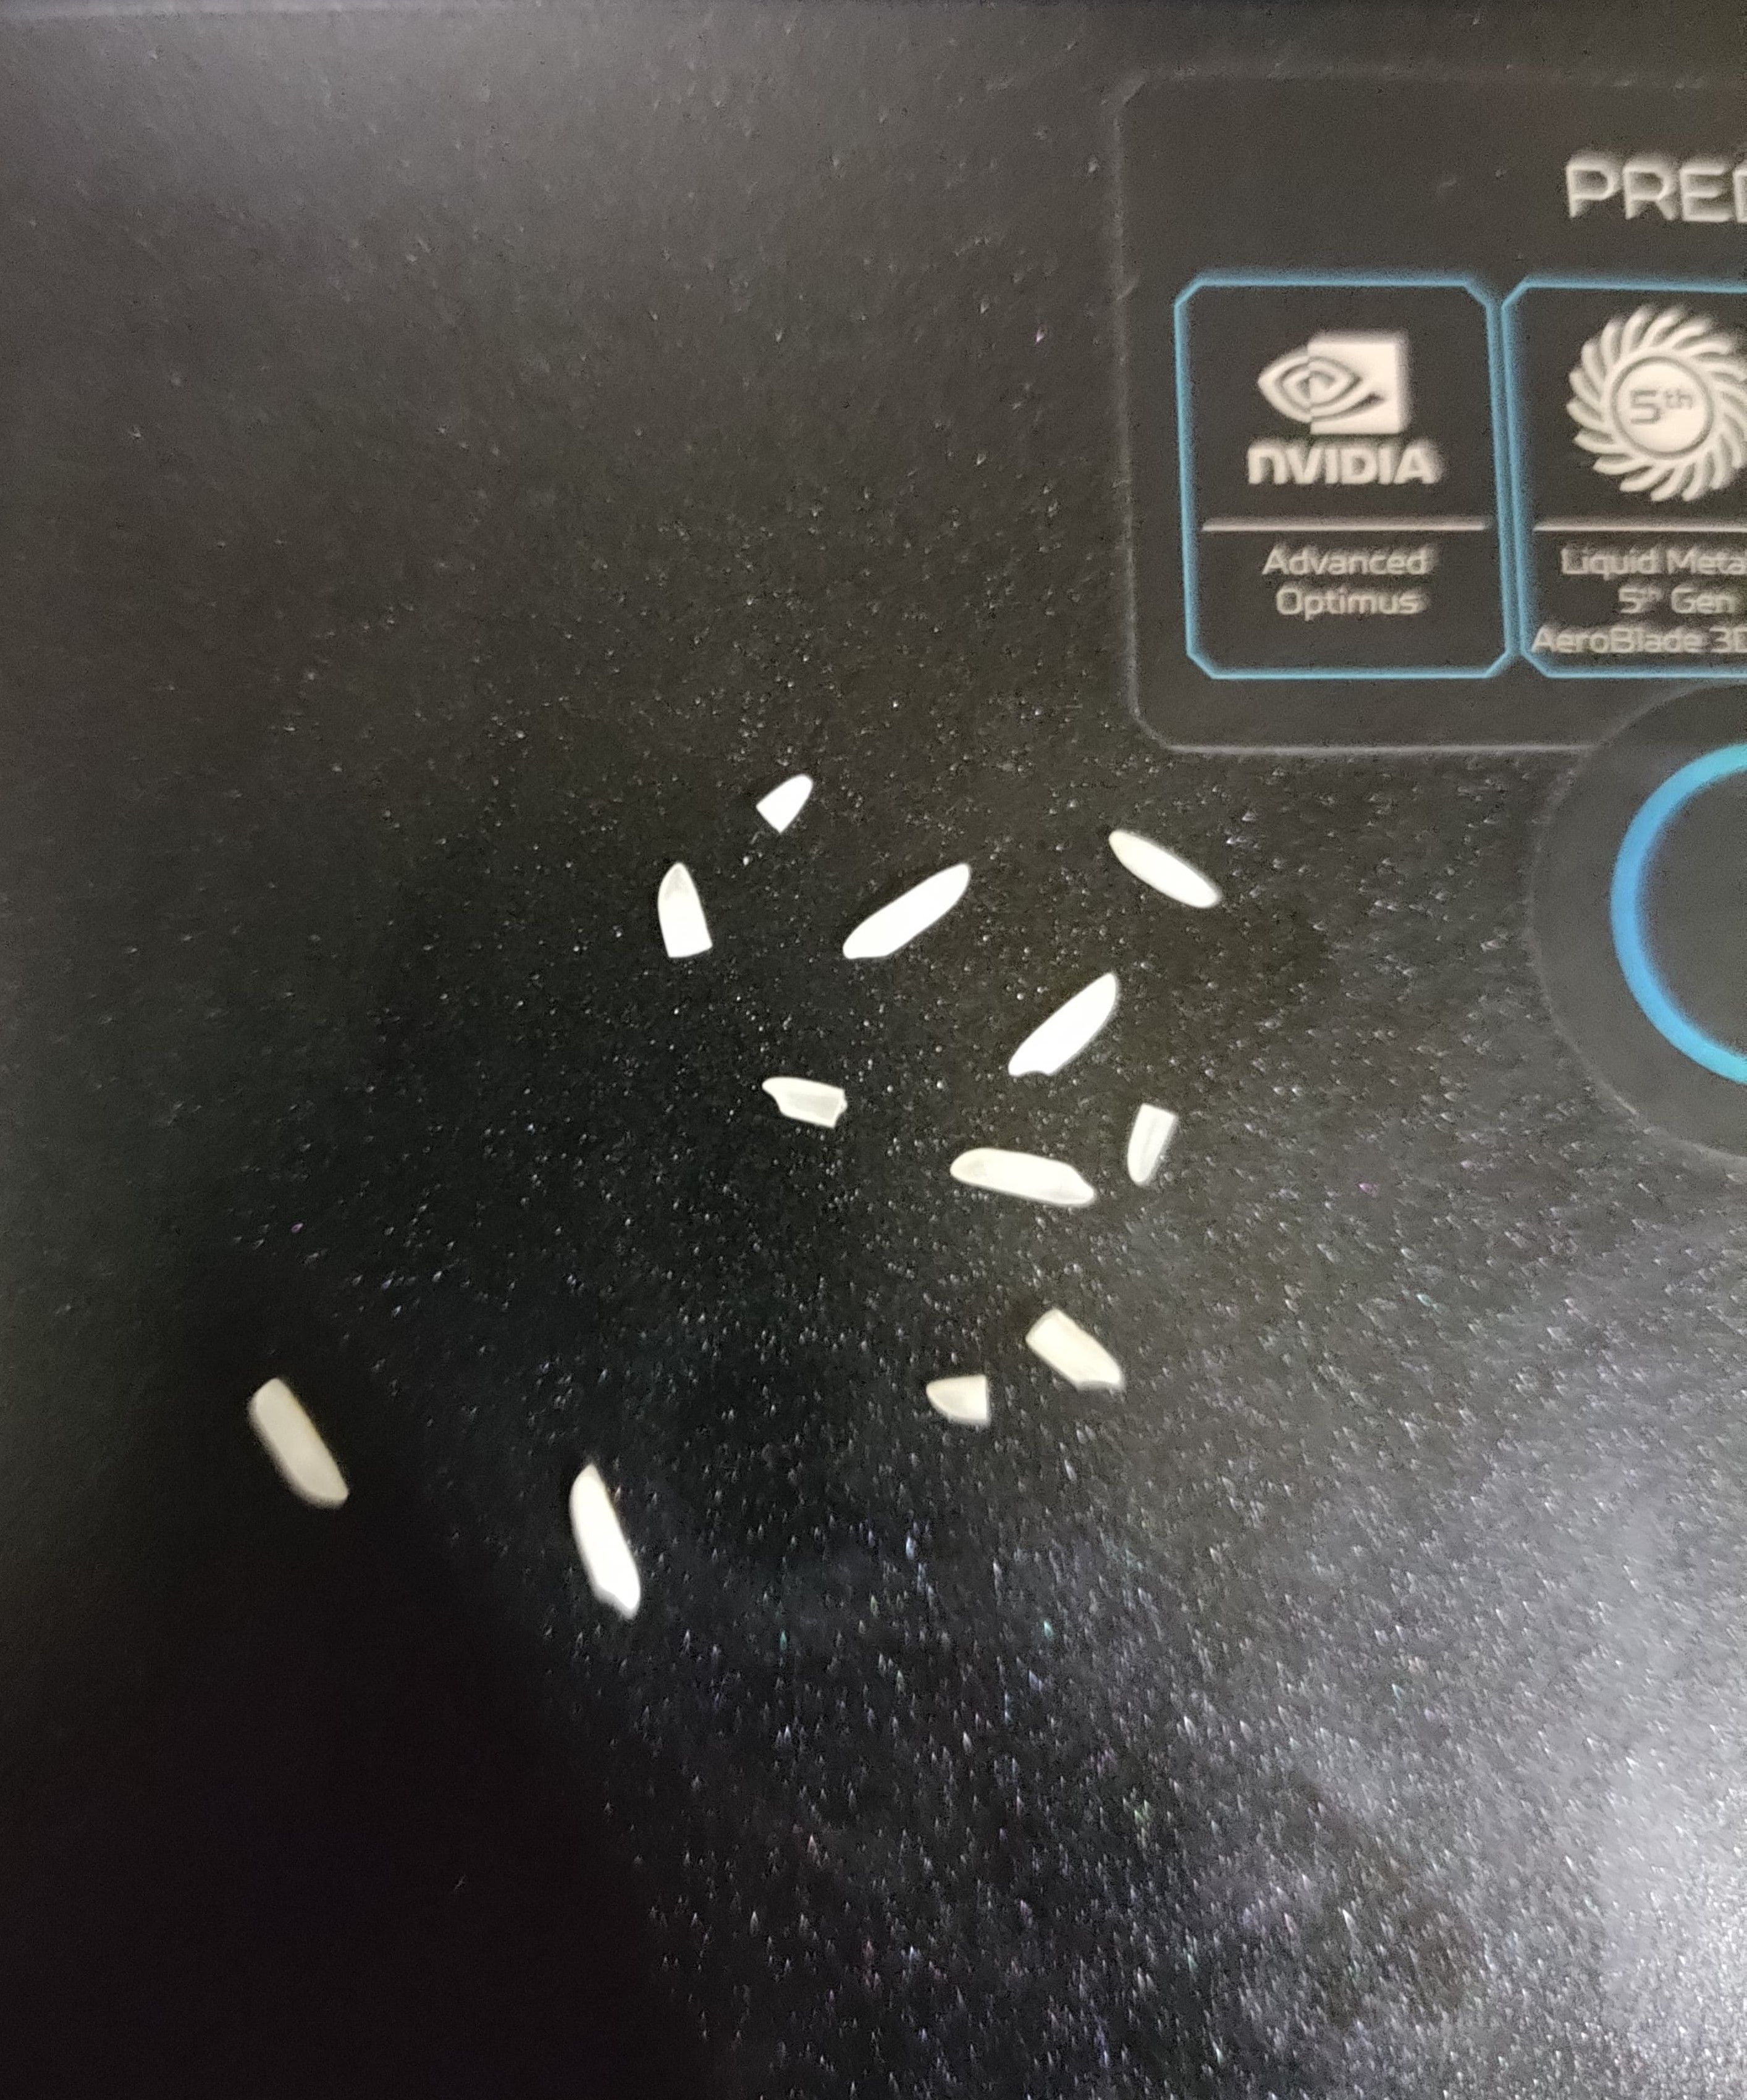broken_grain: (1018, 1296, 1137, 1402), (638, 839, 721, 976), (906, 1363, 1012, 1442), (761, 1064, 854, 1143), (1126, 1091, 1177, 1203), (749, 766, 819, 836)
complete_grain: (823, 846, 992, 976), (555, 1448, 659, 1629), (238, 1363, 360, 1516), (998, 954, 1127, 1091), (940, 1135, 1106, 1239), (1096, 815, 1229, 924)
